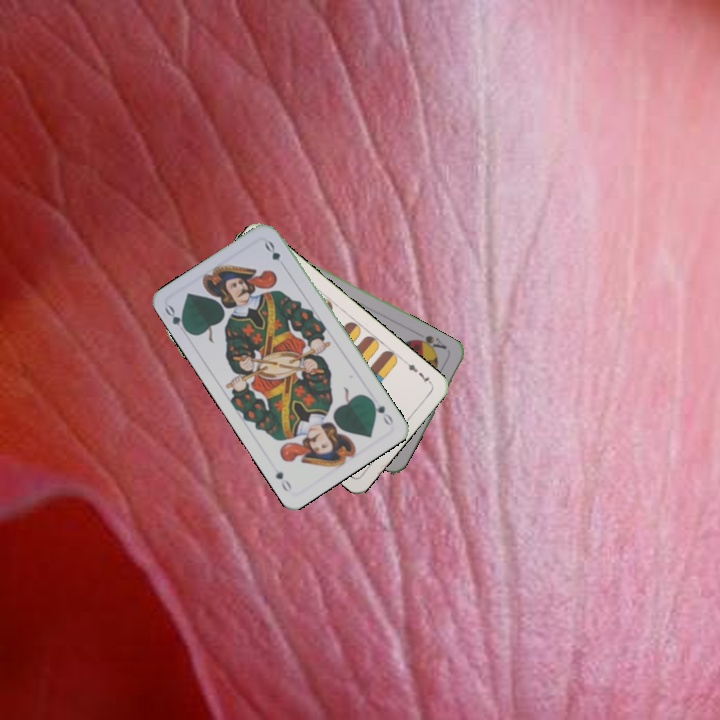E7: (400, 356, 435, 386)
GO: (160, 301, 192, 336), (366, 394, 396, 428)
SA: (411, 329, 449, 354)
